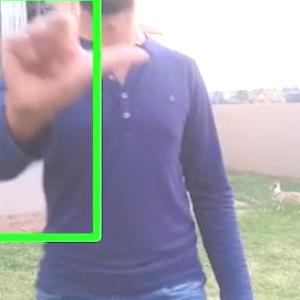land_hand: (0, 0, 155, 135)
